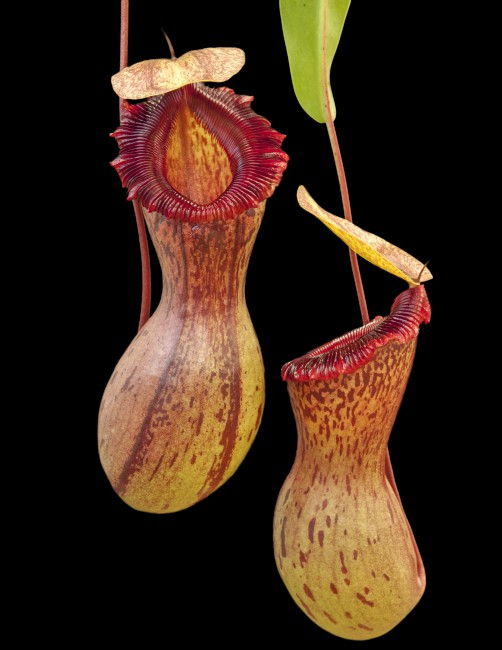ventricosa: (79, 38, 299, 526)
